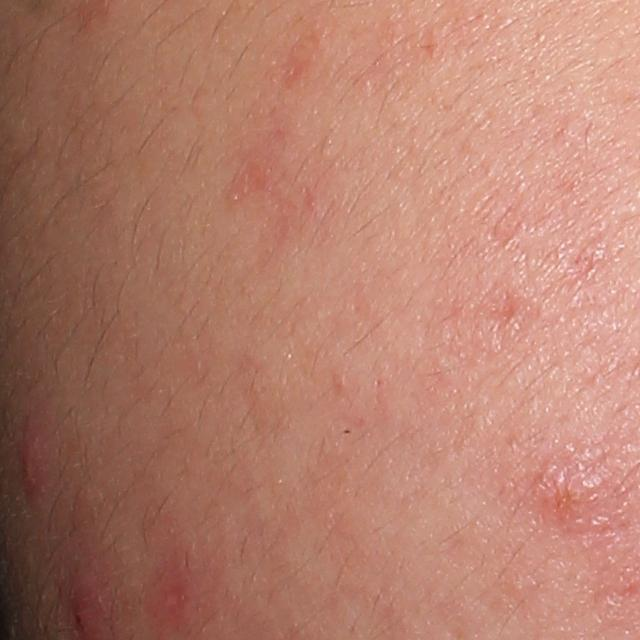papule: (538, 463, 613, 535), (16, 420, 54, 504)
